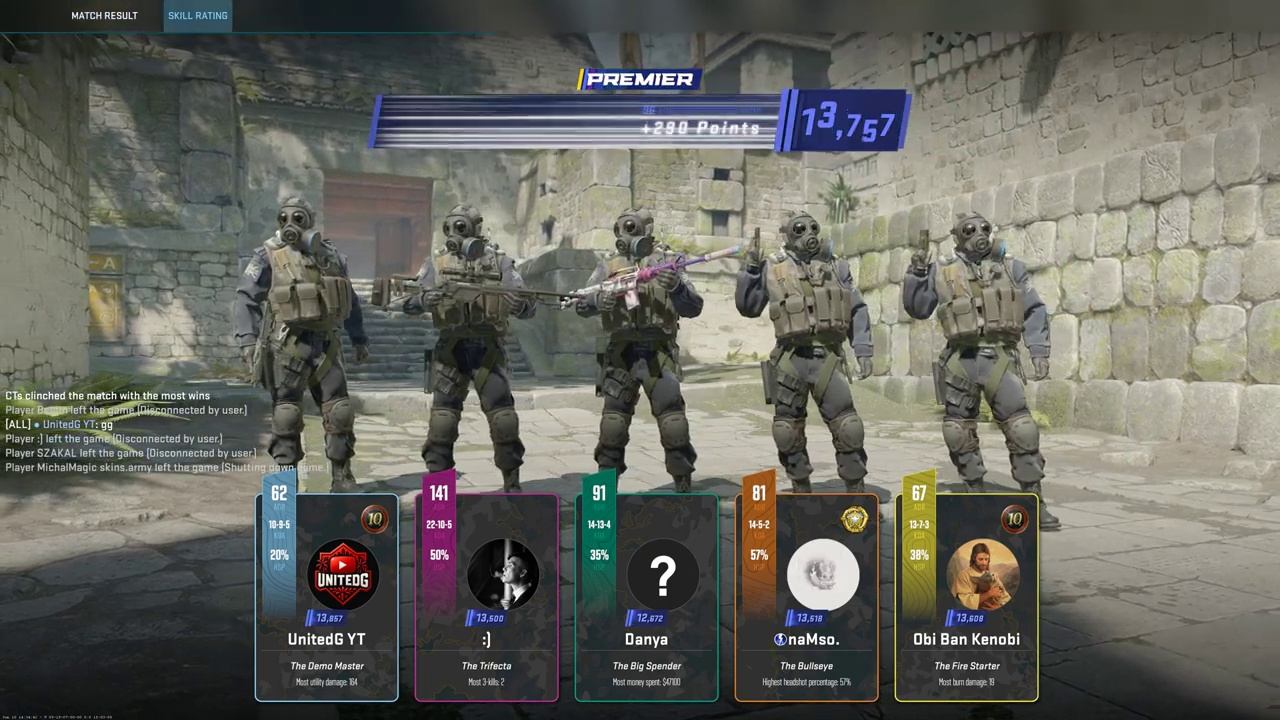CT: (931, 216, 1047, 524), (751, 209, 867, 495), (593, 208, 692, 518), (419, 207, 523, 495), (261, 199, 362, 487)
